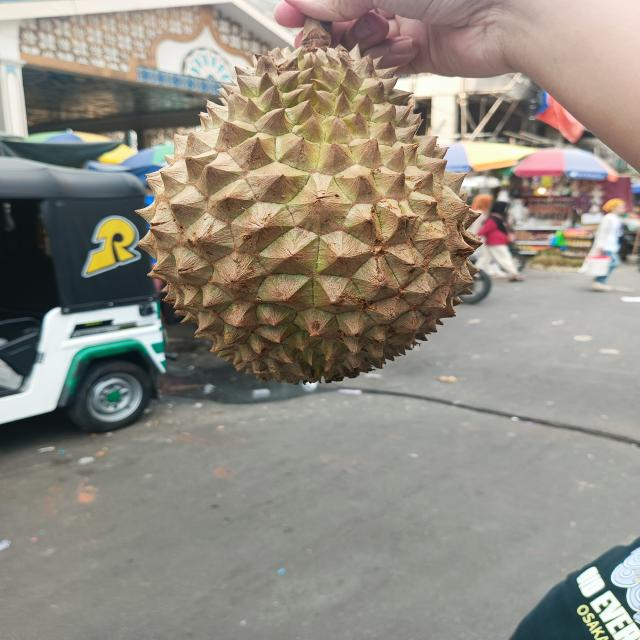mature: (138, 41, 476, 386)
